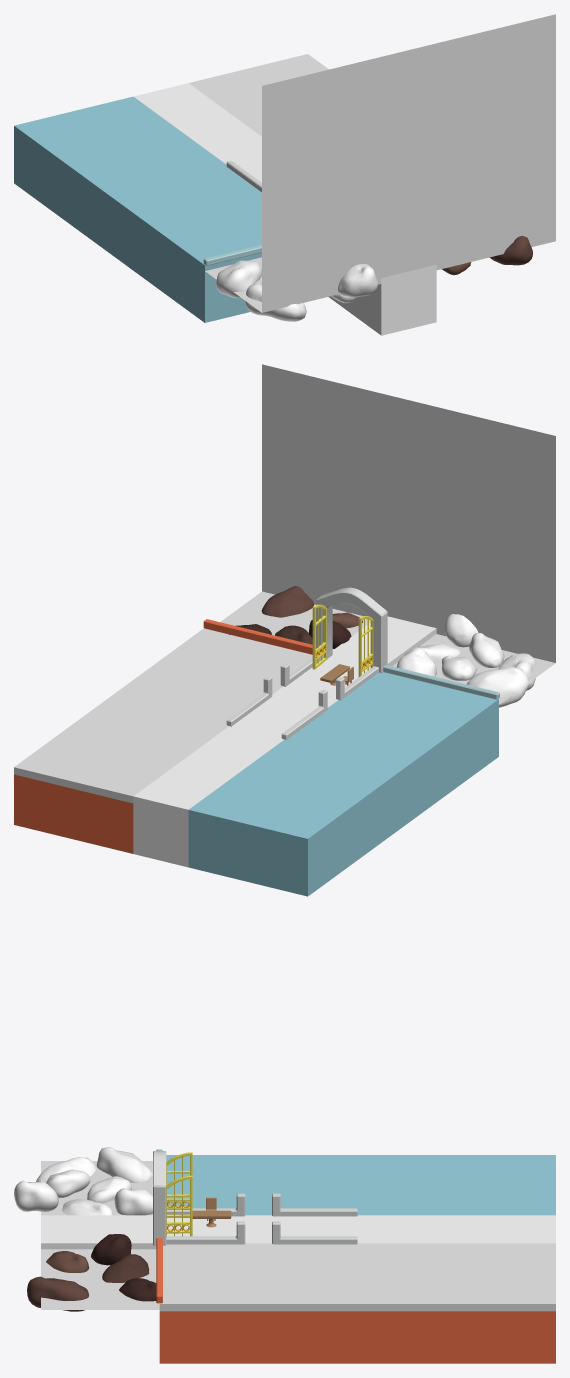
File: Ground.fbx
3 views of the same model, one above another, from view 1: azimuth 30°, elevation 25°; view 2: azimuth 150°, elevation 25°; view 3: azimuth 270°, elevation 25° (orthographic). The views are drawn at different scales.
Visible parts, largest first — view 1: Plane.006, Plane.002, Plane, Plane.001, Cube.025, Cube.013, Cube.014, Cube.017, Cube.011; view 2: Plane.006, Plane.002, Plane.001, Plane, Cube.004, Cube.025, Cube.012, Cube.017, Cube.011, Cube.015, Cube.013, Plane.003 (+3 smaller); view 3: Plane.001, Plane.002, Plane, Plane.006, Cube.025, Cube.017, Cube.004, Cube.013, Cube.005, Cube.008, Cube.009, Cube.001 (+10 smaller).
Part boxes in pixels (x1,y1,x2,y2): Plane.006: [205, 14, 555, 312]; Plane.002: [14, 96, 261, 322]; Plane: [133, 83, 436, 335]; Plane.001: [189, 54, 328, 136]; Cube.025: [216, 260, 261, 298]; Cube.013: [338, 264, 377, 297]; Cube.014: [245, 284, 306, 321]; Cube.017: [489, 236, 532, 265]; Cube.011: [203, 244, 261, 265]; Plane.006: [220, 364, 555, 704]; Plane.002: [188, 672, 498, 896]; Plane.001: [14, 628, 312, 853]; Plane: [133, 616, 436, 867]; Cube.004: [316, 587, 387, 672]; Cube.025: [467, 667, 529, 707]; Cube.012: [203, 619, 312, 654]; Cube.017: [261, 586, 314, 617]; Cube.011: [383, 665, 499, 699]; Cube.015: [469, 633, 504, 667]; Cube.013: [444, 614, 478, 647]; Plane.003: [312, 604, 326, 669]; Plane.001: [159, 1243, 555, 1363]; Plane.002: [166, 1155, 555, 1215]; Plane: [41, 1215, 555, 1249]; Plane.006: [41, 1161, 159, 1309]; Cube.025: [96, 1147, 152, 1182]; Cube.017: [27, 1276, 88, 1311]; Cube.004: [153, 1151, 166, 1245]; Cube.013: [14, 1180, 58, 1211]; Cube.005: [114, 1188, 152, 1215]; Cube.008: [91, 1234, 131, 1265]; Cube.009: [102, 1254, 149, 1282]; Cube.001: [272, 1221, 357, 1244].
Size of the model in its own units: 5433 by 4837 by 8204.
